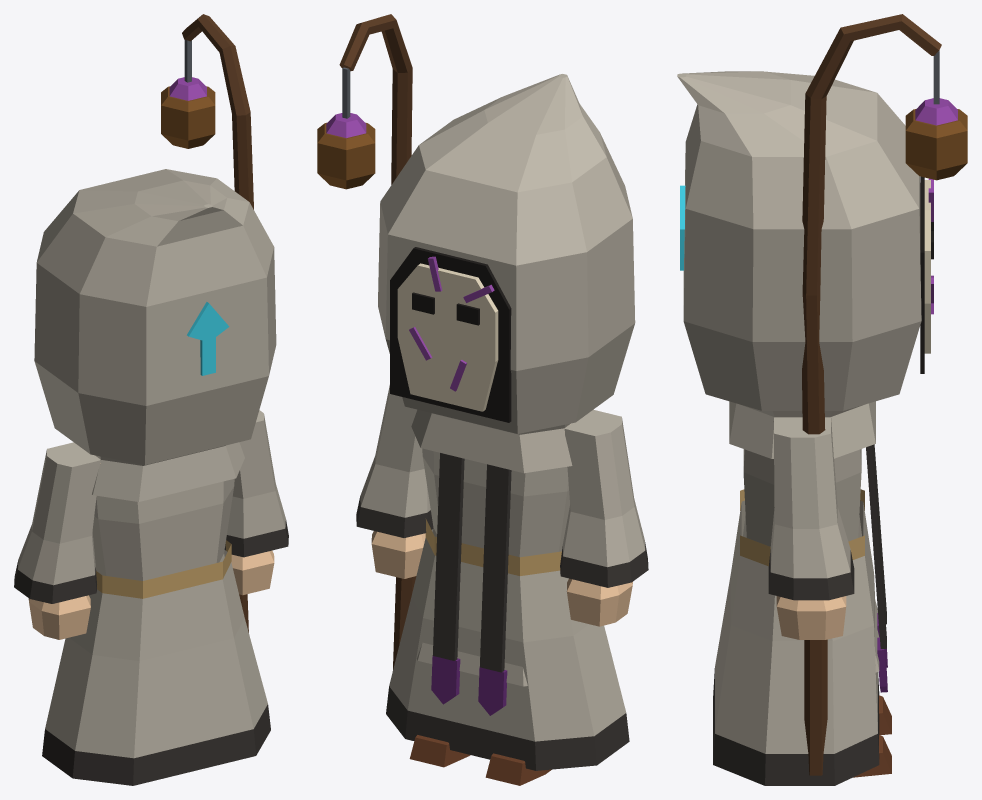
File: CH_AshenOracle.fbx
3 views of the same model, side by side, from view 1: azimuth 30°, elevation 25°; view 2: azimuth 150°, elevation 25°; view 3: azimuth 270°, elevation 25° (orthographic). The views are drawn at different scales.
Parts seen in each view (by area): view 1: Head, Body, ArmR, ArmL; view 2: Head, Body, ArmR, ArmL, LegL, LegR; view 3: Head, Body, ArmR, LegR.
Part boxes in pixels (x1,y1,x2,y2): Head: [34, 169, 276, 464]; Body: [42, 442, 270, 785]; ArmR: [161, 14, 288, 632]; ArmL: [14, 442, 100, 639]; Head: [378, 74, 635, 433]; Body: [386, 409, 629, 770]; ArmR: [317, 14, 433, 669]; ArmL: [560, 409, 648, 626]; LegL: [485, 753, 551, 785]; LegR: [409, 735, 470, 767]; Head: [677, 71, 933, 410]; Body: [713, 401, 887, 785]; ArmR: [768, 14, 967, 775]; LegR: [853, 735, 891, 777].
Size of the model in its own units: 0.7624 by 0.6493 by 1.93.
